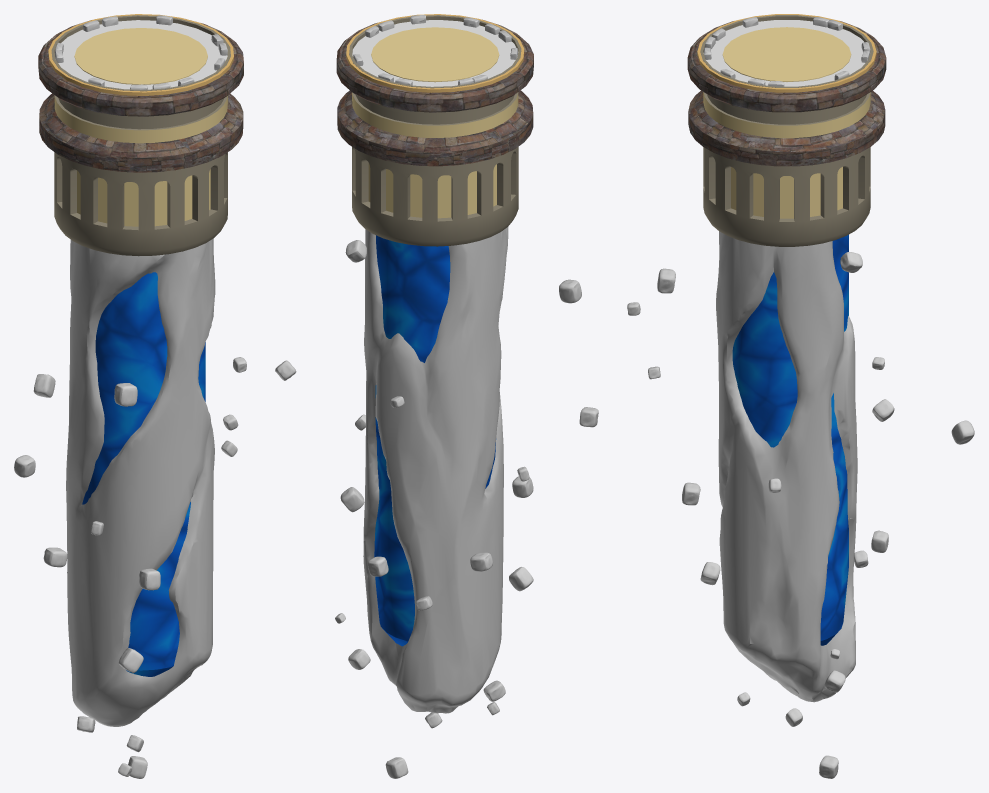
File: Ventilatoare_modeleunite.fbx
3 views of the same model, side by side, from view 1: azimuth 30°, elevation 25°; view 2: azimuth 150°, elevation 25°; view 3: azimuth 270°, elevation 25° (orthographic). The views are drawn at different scales.
Visible parts, largest first — view 1: Cube.045; view 2: Cube.045; view 3: Cube.045.
Boxes of the visible parts, x1=… form: Cube.045: x1=14, y1=14, x2=246, y2=778; Cube.045: x1=275, y1=14, x2=598, y2=778; Cube.045: x1=627, y1=14, x2=974, y2=778.
Size of the model in its own units: 1720 by 4677 by 2047.
